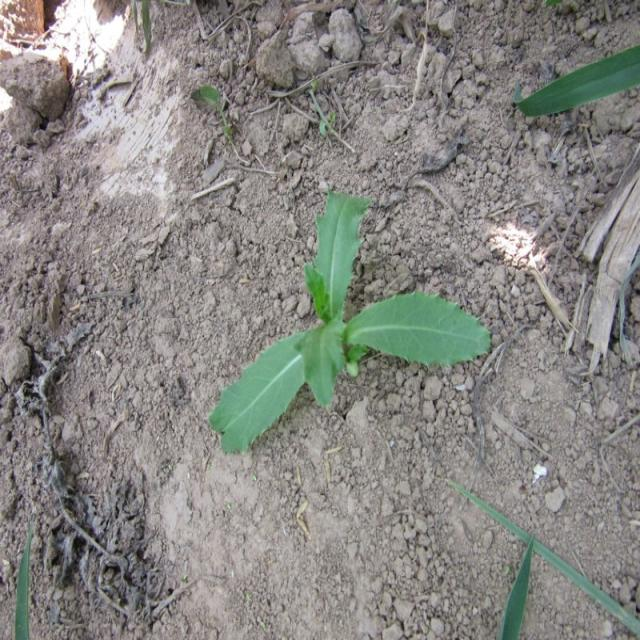field_thistle: (182, 184, 480, 447)
